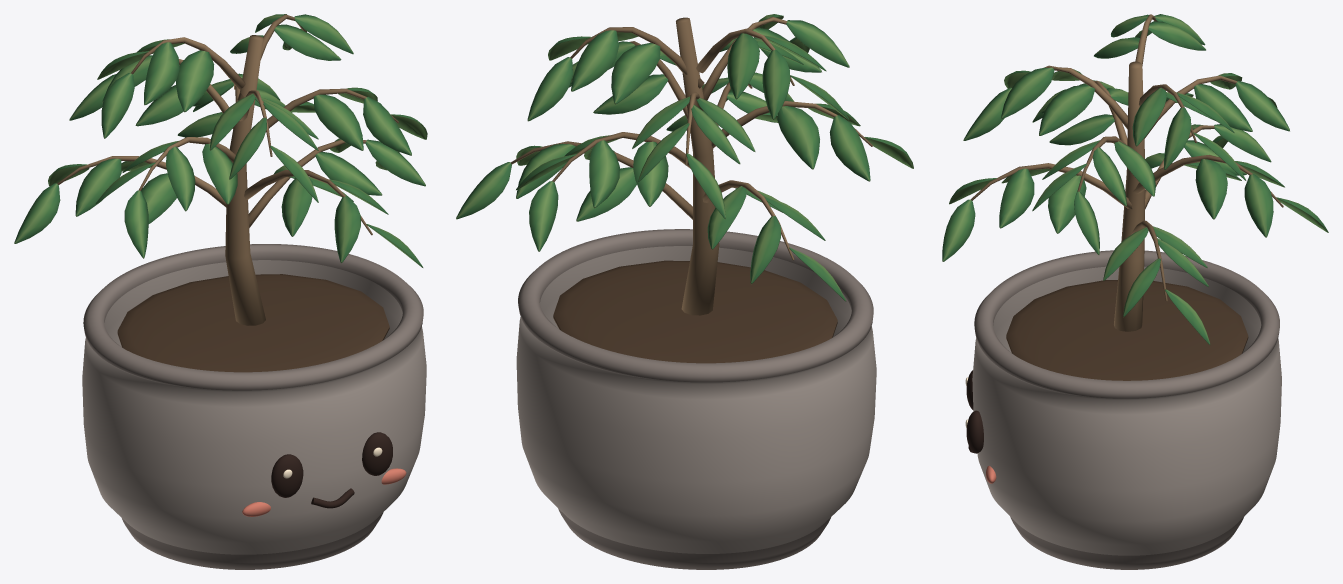
File: weeping-fig-v1.glb
3 renders of one model, left to right at view 1: azimuth 30°, elevation 25°; view 2: azimuth 150°, elevation 25°; view 3: azimuth 270°, elevation 25°, orthographic. The views are drawn at different scales.
Parts seen in each view (by area): view 1: Wheel-thrown ceramic, Weeping fig branches and drip-tip leaves, Soil, Eye, Eye.001; view 2: Wheel-thrown ceramic, Weeping fig branches and drip-tip leaves, Soil; view 3: Wheel-thrown ceramic, Weeping fig branches and drip-tip leaves, Soil, Eye.001.
Boxes of the visible parts, bbox=[...] form: Wheel-thrown ceramic: bbox=[82, 244, 426, 569]; Weeping fig branches and drip-tip leaves: bbox=[14, 14, 427, 325]; Soil: bbox=[117, 274, 389, 372]; Eye: bbox=[271, 454, 303, 497]; Eye.001: bbox=[362, 432, 392, 475]; Wheel-thrown ceramic: bbox=[516, 229, 876, 569]; Weeping fig branches and drip-tip leaves: bbox=[456, 14, 913, 315]; Soil: bbox=[553, 260, 837, 363]; Wheel-thrown ceramic: bbox=[972, 250, 1281, 569]; Weeping fig branches and drip-tip leaves: bbox=[942, 14, 1328, 344]; Soil: bbox=[1006, 280, 1248, 380]; Eye.001: bbox=[966, 410, 983, 453].
Bounding box in the file's own units: 2.02 × 2.51 × 1.86.
